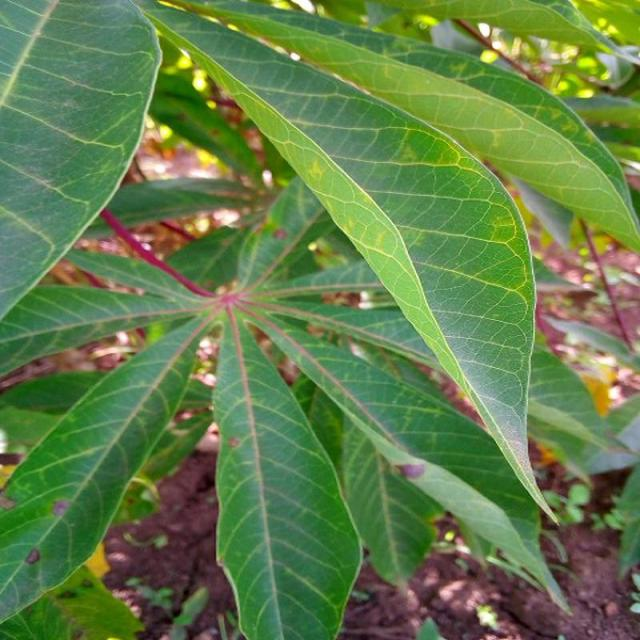cassava leaf: (135, 0, 559, 527), (0, 308, 210, 626), (0, 0, 162, 322), (212, 301, 362, 638)
